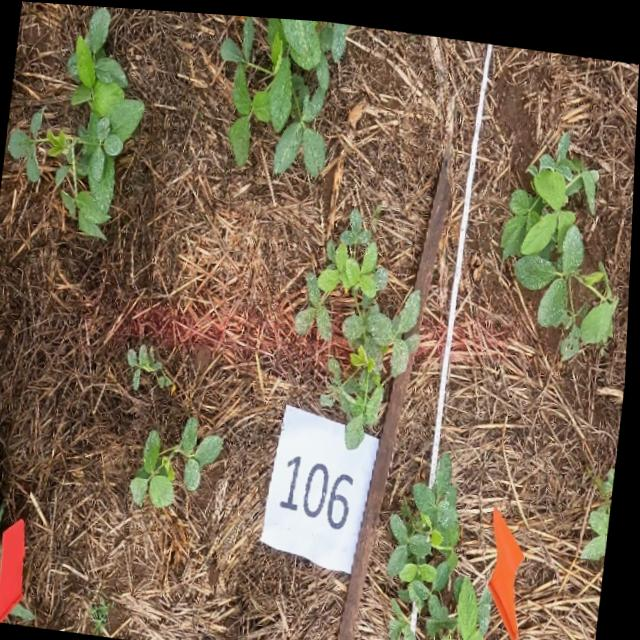caruru_weed: (93, 595, 115, 634)
soy_plant: (9, 7, 144, 231), (298, 204, 424, 443), (502, 125, 617, 349), (220, 14, 347, 168), (394, 451, 496, 640), (135, 415, 226, 504), (588, 461, 618, 551), (131, 343, 174, 386), (20, 606, 36, 616)
